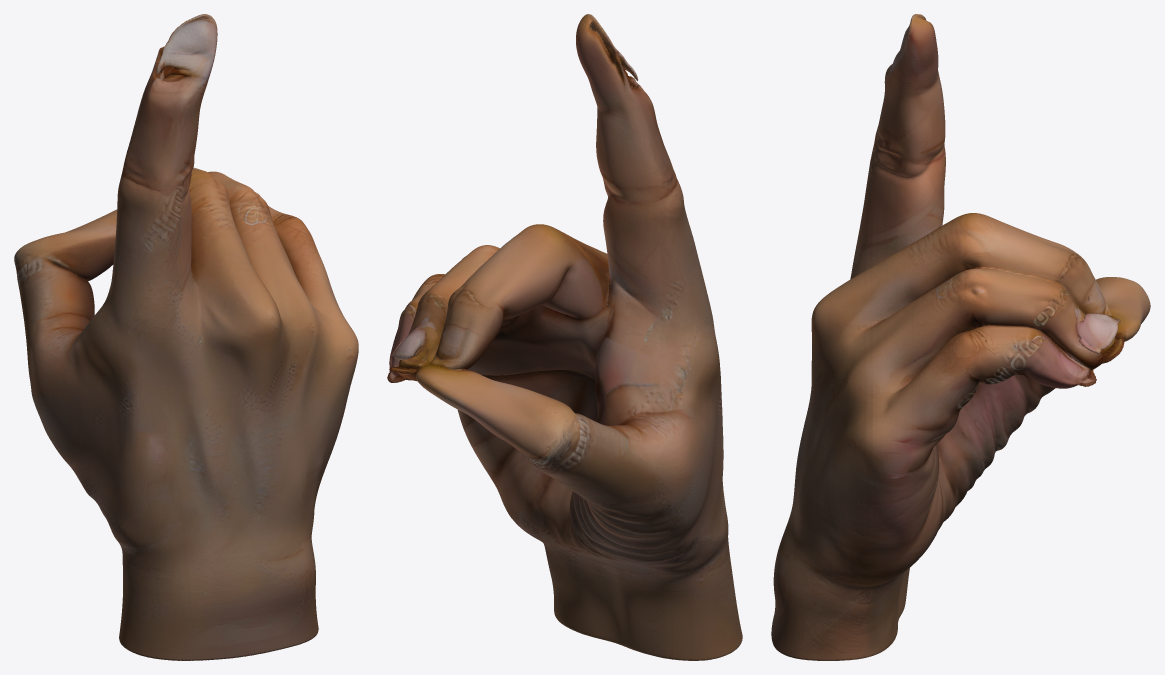
The model's file is letter_D.glb.
3 renders of one model, left to right at view 1: azimuth 30°, elevation 25°; view 2: azimuth 150°, elevation 25°; view 3: azimuth 270°, elevation 25°, orthographic. The views are drawn at different scales.
Visible parts, largest first — view 1: tripo_node_54c96e26-2b79-4c1b-830e-e9ac8a7b9194; view 2: tripo_node_54c96e26-2b79-4c1b-830e-e9ac8a7b9194; view 3: tripo_node_54c96e26-2b79-4c1b-830e-e9ac8a7b9194.
Part boxes in pixels (box(x1,y1,x2,y2)): tripo_node_54c96e26-2b79-4c1b-830e-e9ac8a7b9194: box(14, 14, 358, 660); tripo_node_54c96e26-2b79-4c1b-830e-e9ac8a7b9194: box(387, 14, 742, 660); tripo_node_54c96e26-2b79-4c1b-830e-e9ac8a7b9194: box(771, 14, 1150, 660).
Size of the model in its own units: 0.4763 by 1 by 0.559.
1 material, 1 textured.
